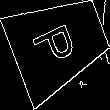P_NE: (32, 17, 86, 71)
